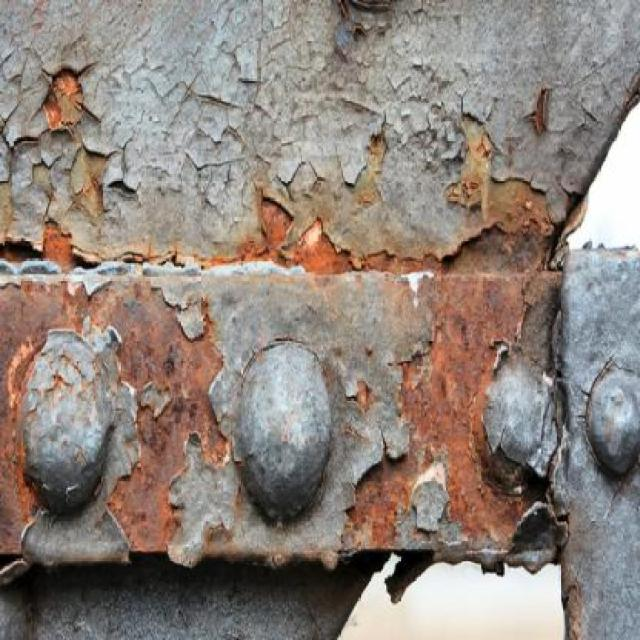corrosion: (1, 42, 639, 573)
